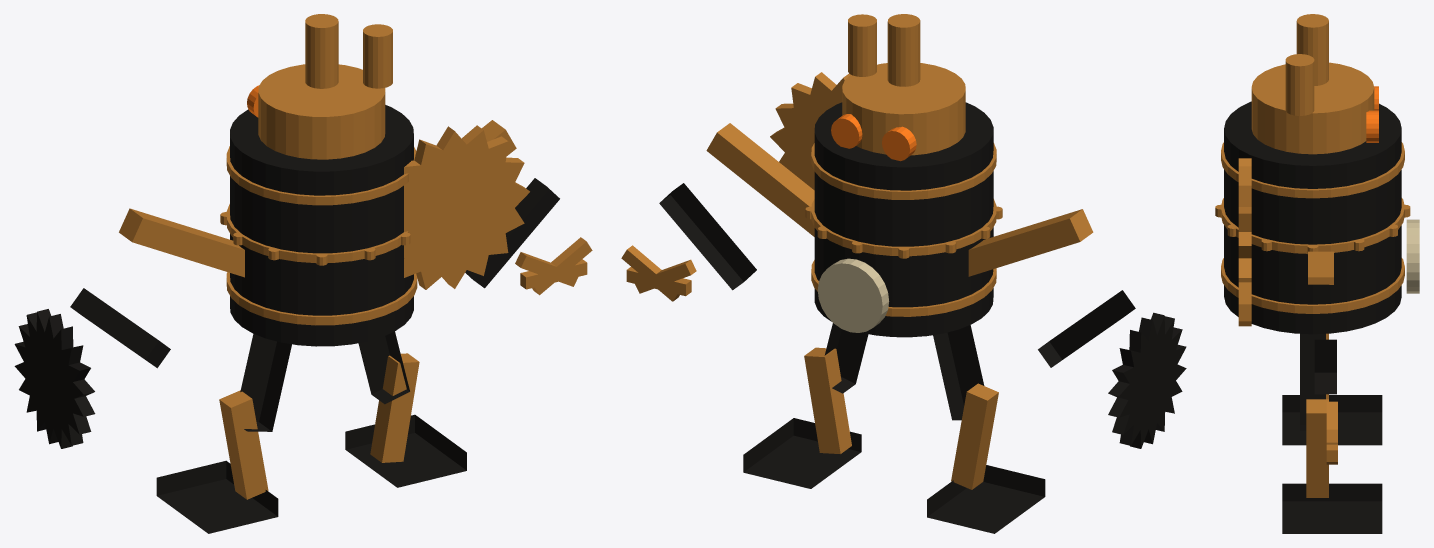
File: HF_ScrapperMonster_LookdevBlockout.obj
The picture shows the model from 3 angles, left to right: view 1: azimuth 30°, elevation 25°; view 2: azimuth 150°, elevation 25°; view 3: azimuth 270°, elevation 25°; orthographic projection. The views are drawn at different scales.
Parts seen in each view (by area): view 1: boiler_torso_shell, exposed_back_gear, round_brass_head, left_saw_blade, heavy_plated_foot_-1, heavy_plated_foot_1, left_upper_piston_arm, lower_leg_-1, lower_leg_1, upper_leg_-1, left_lower_piston_arm, steam_stack_left (+9 smaller); view 2: boiler_torso_shell, round_brass_head, left_saw_blade, heavy_plated_foot_-1, heavy_plated_foot_1, right_upper_piston_arm, belly_pressure_gauge, exposed_back_gear, left_upper_piston_arm, right_lower_piston_arm, lower_leg_1, lower_leg_-1 (+13 smaller); view 3: boiler_torso_shell, round_brass_head, heavy_plated_foot_1, heavy_plated_foot_-1, exposed_back_gear, lower_leg_1, torso_brass_band_1.35, torso_brass_band_2.14, steam_stack_right, steam_stack_left, torso_brass_band_1.76, upper_leg_1 (+5 smaller).
Part boxes in pixels (x1,y1,x2,y2): boiler_torso_shell: (230,105,413,346); exposed_back_gear: (404,125,529,289); round_brass_head: (258,64,385,159); left_saw_blade: (14,309,95,448); heavy_plated_foot_-1: (156,460,278,533); heavy_plated_foot_1: (345,414,466,487); left_upper_piston_arm: (119,208,244,277); lower_leg_-1: (219,390,268,499); lower_leg_1: (370,353,419,462); upper_leg_-1: (240,333,291,431); left_lower_piston_arm: (70,288,170,368); steam_stack_left: (305,14,338,88); boiler_torso_shell: (814,102,993,337); round_brass_head: (842,63,965,155); left_saw_blade: (1108,312,1186,448); heavy_plated_foot_-1: (927,465,1045,533); heavy_plated_foot_1: (743,418,861,488); right_upper_piston_arm: (706,123,814,236); belly_pressure_gauge: (817,258,889,332); exposed_back_gear: (770,72,850,190); left_upper_piston_arm: (968,209,1093,276); right_lower_piston_arm: (659,183,756,290); lower_leg_1: (804,347,851,454); lower_leg_-1: (951,383,998,489); boiler_torso_shell: (1224,101,1401,334); round_brass_head: (1251,62,1374,154); heavy_plated_foot_1: (1282,483,1382,533); heavy_plated_foot_-1: (1282,395,1382,445); exposed_back_gear: (1238,158,1251,326); lower_leg_1: (1306,399,1328,497); torso_brass_band_1.35: (1221,258,1404,313); torso_brass_band_2.14: (1221,142,1404,198); steam_stack_right: (1285,54,1314,115); steam_stack_left: (1296,14,1328,85); torso_brass_band_1.76: (1221,198,1404,253); upper_leg_1: (1300,334,1325,430).
Bounding box in the file's own units: 3.73 × 3.09 × 1.26.
